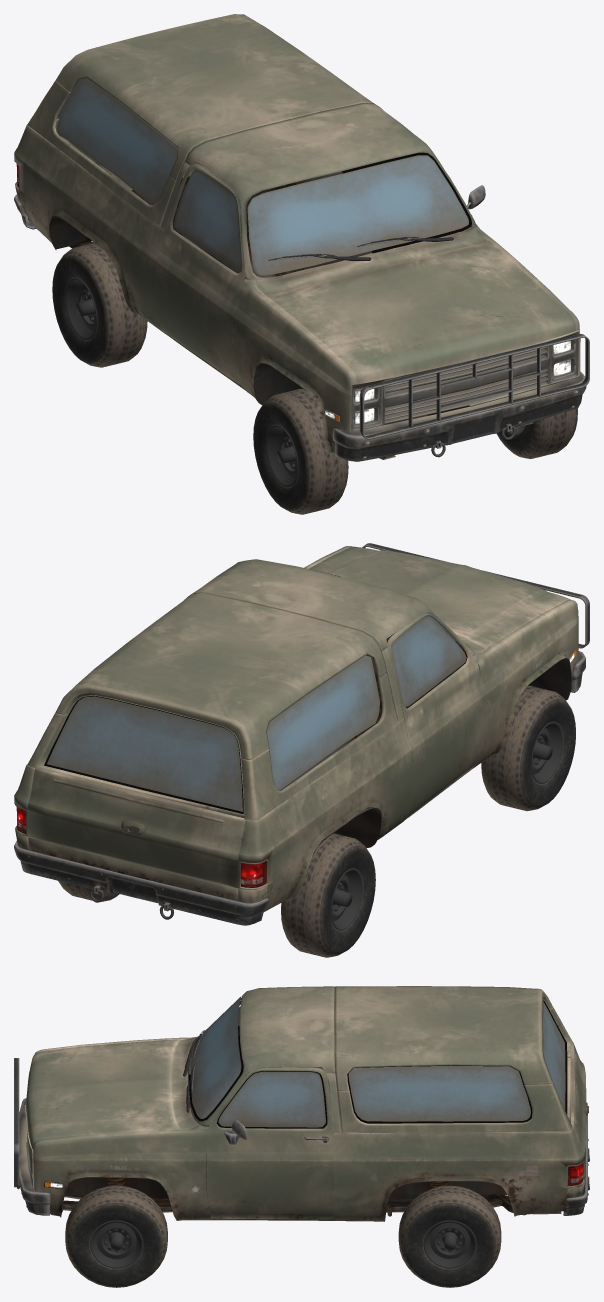
Rendered from 86年雪佛兰M1009汽车.glb.
The picture shows the model from 3 angles, top to bottom: view 1: azimuth 30°, elevation 25°; view 2: azimuth 150°, elevation 25°; view 3: azimuth 270°, elevation 25°; orthographic projection. The views are drawn at different scales.
Visible parts, largest first — view 1: Body Part, Windows, Body Part.005, Body Part.006, Body Part.003, Wheel Front R, Wheel Rare R, Body Part.004, Undercarriage, Wheel Front L, Lights.001, Body Part.013 (+1 smaller); view 2: Body Part, Body Part.005, Windows, Body Part.003, Wheel Rare R, Wheel Front R, Body Part.002, Undercarriage, Body Part.006, Lights.002; view 3: Body Part, Windows, Body Part.005, Body Part.003, Wehel Rare L, Wheel Front L, Undercarriage, Body Part.013, Body Part.004, Body Part.006, Body Part.002.
Part boxes in pixels (<box>): Body Part: <box>27,14,580,452</box>; Windows: <box>57,78,468,275</box>; Body Part.005: <box>14,117,203,334</box>; Body Part.006: <box>351,332,589,439</box>; Body Part.003: <box>154,144,465,389</box>; Wheel Front R: <box>253,388,348,514</box>; Wheel Rare R: <box>52,243,147,367</box>; Body Part.004: <box>332,371,586,461</box>; Undercarriage: <box>27,171,533,459</box>; Wheel Front L: <box>496,408,577,458</box>; Lights.001: <box>325,341,570,424</box>; Body Part.013: <box>342,152,471,253</box>; Body Part: <box>27,546,578,820</box>; Body Part.005: <box>14,718,413,911</box>; Windows: <box>47,610,467,811</box>; Body Part.003: <box>387,612,487,820</box>; Wheel Rare R: <box>281,833,375,957</box>; Wheel Front R: <box>481,685,575,811</box>; Body Part.002: <box>14,841,268,925</box>; Undercarriage: <box>130,644,571,900</box>; Body Part.006: <box>362,543,589,648</box>; Lights.002: <box>16,807,267,887</box>; Body Part: <box>26,986,572,1220</box>; Windows: <box>190,996,565,1127</box>; Body Part.005: <box>333,1036,587,1221</box>; Body Part.003: <box>206,1000,333,1220</box>; Wehel Rare L: <box>398,1185,501,1287</box>; Wheel Front L: <box>65,1185,167,1287</box>; Undercarriage: <box>62,1122,561,1221</box>; Body Part.013: <box>188,1026,532,1128</box>; Body Part.004: <box>19,1098,50,1215</box>; Body Part.006: <box>14,1058,32,1187</box>; Body Part.002: <box>563,1114,587,1215</box>.
Bounding box in the file's own units: 1.94 × 1.73 × 4.12.
9 materials, 7 textured.
